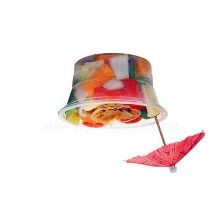glass: (52, 47, 175, 133)
